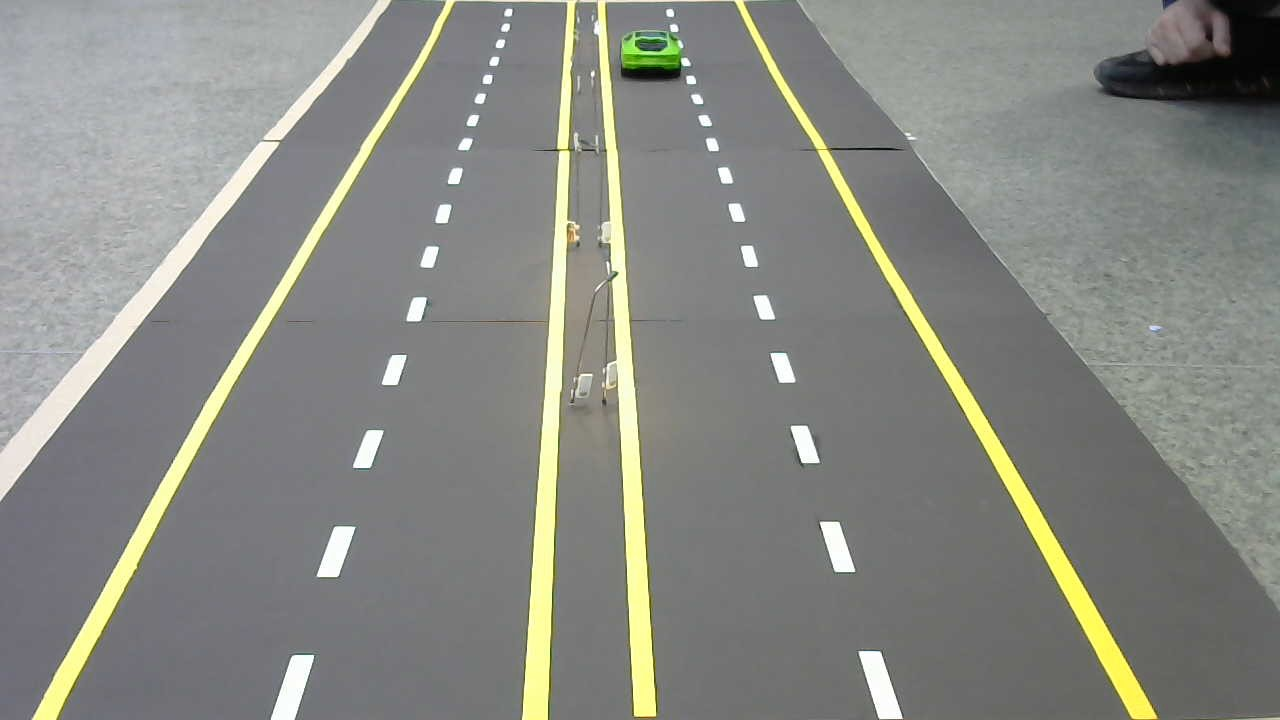back_car: (617, 26, 684, 83)
